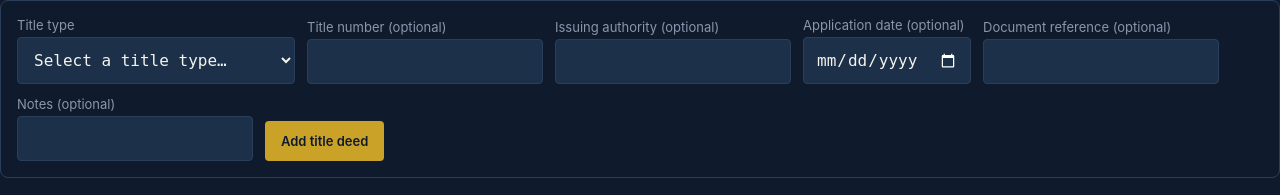
it: AddTitleDeedForm › shows the action-returned error message and does not reset the fields on failure
The image size is (1280, 195).
Select "Certificate of Occupancy" in the dropdown labelled "Title type": (156, 60) left=17, top=37, right=295, bottom=84
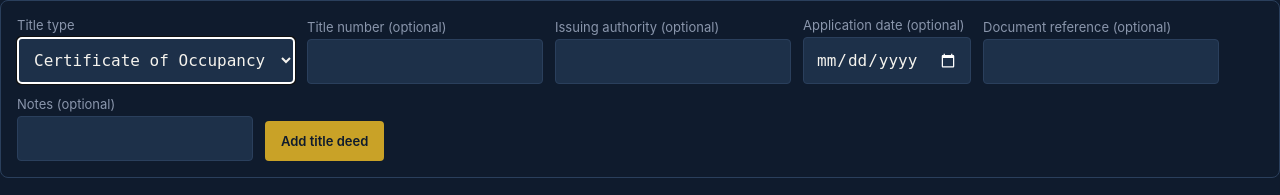
Click the button "Add title deed": (325, 141) left=265, top=121, right=384, bottom=161
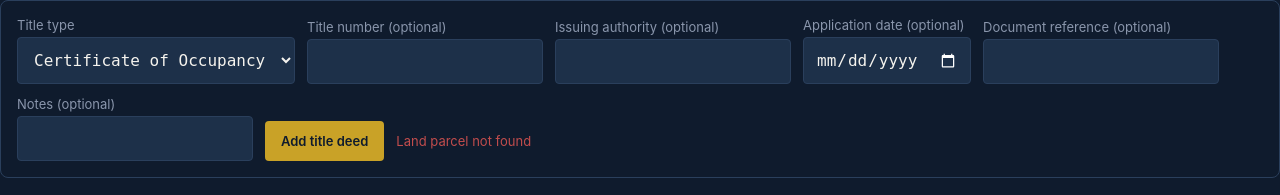
expect the text "Land parcel not found" is shown: met, box left=396, top=133, right=531, bottom=149
